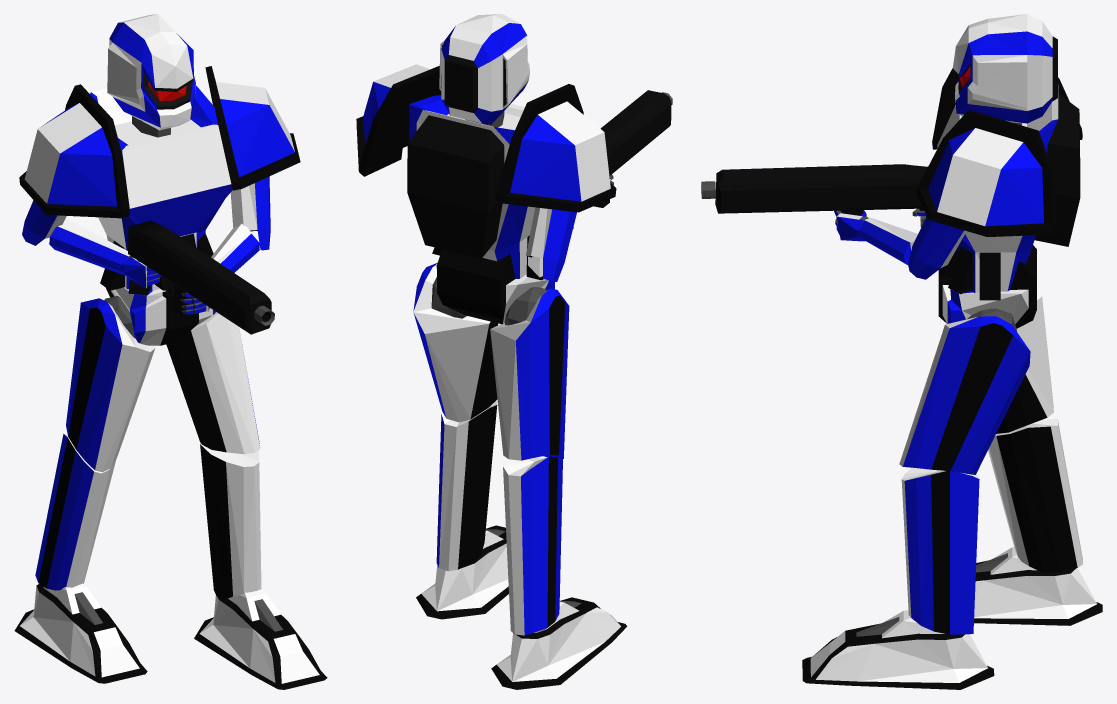
Rendered from robot_animation_000000.obj.
3 views of the same model, side by side, from view 1: azimuth 30°, elevation 25°; view 2: azimuth 150°, elevation 25°; view 3: azimuth 270°, elevation 25° (orthographic). The views are drawn at different scales.
Parts seen in each view (by area): view 1: Chest_plate_Cube.004, Cube.002_Cube.059, R_Thigh_Cube.005, R_Thigh.002_Cube.027, Head_base_Cube.022, R_Shin.002_Cube.029, R_Foot_Cube, R_Foot.002_Cube.035, Cube_Cube.001, R_Shin_Cube.007, Cube_Cube.021, Pelvis_Cube.006 (+5 smaller); view 2: Chest_plate_Cube.004, Cube.002_Cube.059, R_Thigh_Cube.005, R_Shin_Cube.007, Head_base_Cube.022, R_Shin.002_Cube.029, R_Thigh.002_Cube.027, R_Foot_Cube, Cube_Cube.021, Pelvis_Cube.006, R_Foot.002_Cube.035, Cube_Cube.001 (+2 smaller); view 3: Cube_Cube.021, R_Thigh.002_Cube.027, R_Shin.002_Cube.029, R_Shin_Cube.007, R_Foot.002_Cube.035, Head_base_Cube.022, Cube_Cube.001, Chest_plate_Cube.004, R_Foot_Cube, R_Thigh_Cube.005, Pelvis_Cube.006, L_Arm_Cube.014 (+3 smaller).
Boxes of the visible parts, x1,y1,x2,y2 form: Chest_plate_Cube.004: (90, 86, 232, 295); Cube.002_Cube.059: (19, 84, 129, 218); R_Thigh_Cube.005: (66, 298, 155, 472); R_Thigh.002_Cube.027: (166, 312, 260, 454); Head_base_Cube.022: (107, 14, 195, 130); R_Shin.002_Cube.029: (200, 442, 261, 599); R_Foot_Cube: (14, 583, 147, 683); R_Foot.002_Cube.035: (194, 589, 327, 689); Cube_Cube.001: (128, 220, 274, 334); R_Shin_Cube.007: (35, 433, 116, 590); Cube_Cube.021: (205, 66, 300, 190); Pelvis_Cube.006: (104, 268, 215, 345); Chest_plate_Cube.004: (407, 95, 543, 280); Cube.002_Cube.059: (495, 84, 616, 212); R_Thigh_Cube.005: (490, 288, 569, 460); R_Shin_Cube.007: (503, 456, 562, 635); Head_base_Cube.022: (439, 14, 529, 124); R_Shin.002_Cube.029: (436, 401, 497, 571); R_Thigh.002_Cube.027: (413, 263, 498, 422); R_Foot_Cube: (491, 597, 627, 689); Cube_Cube.021: (356, 64, 441, 176); Pelvis_Cube.006: (436, 249, 554, 324); R_Foot.002_Cube.035: (416, 525, 508, 619); Cube_Cube.001: (594, 90, 672, 207); Cube_Cube.021: (916, 110, 1057, 236); R_Thigh.002_Cube.027: (899, 316, 1030, 474); R_Shin.002_Cube.029: (901, 467, 979, 634); R_Shin_Cube.007: (988, 413, 1083, 572); R_Foot.002_Cube.035: (802, 610, 994, 689); Head_base_Cube.022: (952, 14, 1057, 123); Cube_Cube.001: (701, 164, 927, 217); Chest_plate_Cube.004: (937, 84, 1080, 300); R_Foot_Cube: (974, 547, 1102, 625); R_Thigh_Cube.005: (996, 286, 1053, 433); Pelvis_Cube.006: (938, 245, 1036, 328); L_Arm_Cube.014: (908, 216, 966, 279).
Size of the model in its own units: 1.32 by 3.03 by 1.77.
